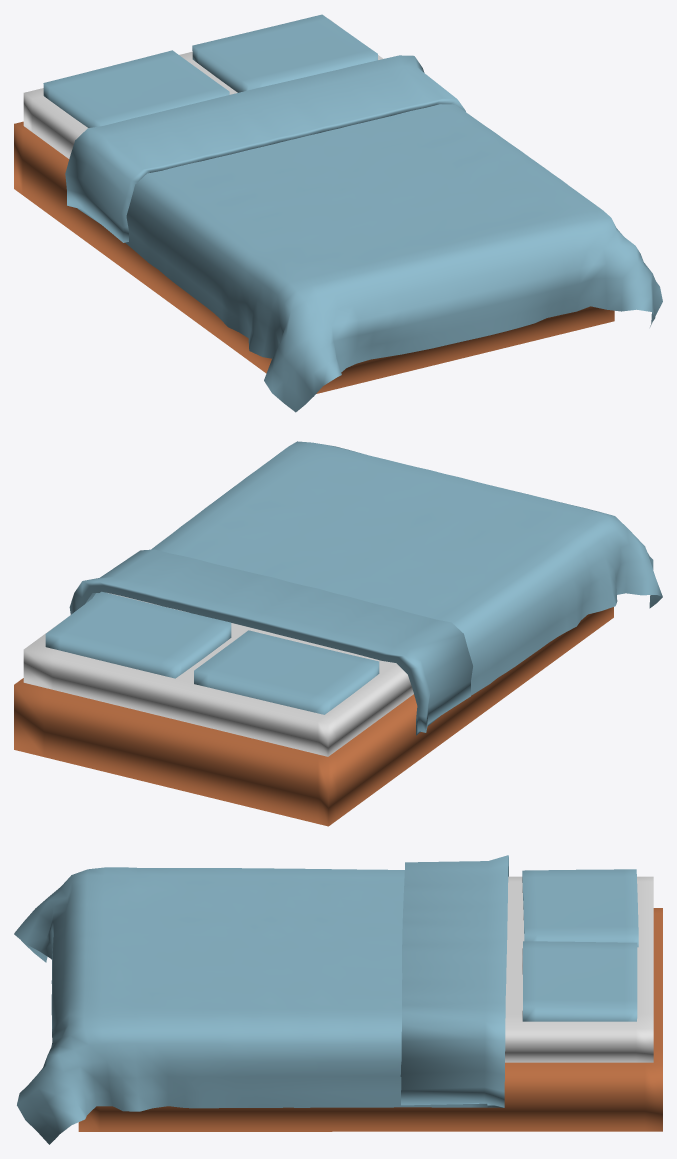
Rendered from bed1.glb.
3 renders of one model, top to bottom at view 1: azimuth 30°, elevation 25°; view 2: azimuth 150°, elevation 25°; view 3: azimuth 270°, elevation 25°, orthographic. The views are drawn at different scales.
Parts seen in each view (by area): view 1: Blanket.001, Bedframe, Right Pillow, Left Pillow, Mattress.001; view 2: Blanket.001, Bedframe, Mattress.001, Right Pillow, Left Pillow; view 3: Blanket.001, Bedframe, Mattress.001, Right Pillow, Left Pillow.
Part boxes in pixels (x1,y1,x2,y2): Blanket.001: (65, 55, 662, 412); Bedframe: (14, 121, 614, 393); Right Pillow: (192, 14, 377, 92); Left Pillow: (43, 50, 229, 127); Mattress.001: (23, 18, 383, 158); Blanket.001: (69, 441, 662, 735); Bedframe: (14, 607, 613, 826); Mattress.001: (23, 593, 413, 756); Right Pillow: (45, 591, 231, 678); Left Pillow: (194, 630, 379, 714); Blanket.001: (14, 855, 508, 1144); Bedframe: (78, 908, 662, 1131); Mattress.001: (505, 876, 653, 1062); Right Pillow: (522, 941, 637, 1021); Left Pillow: (522, 869, 638, 947).
Bounding box in the file's own units: 0.3516 × 0.1012 × 0.4875.
